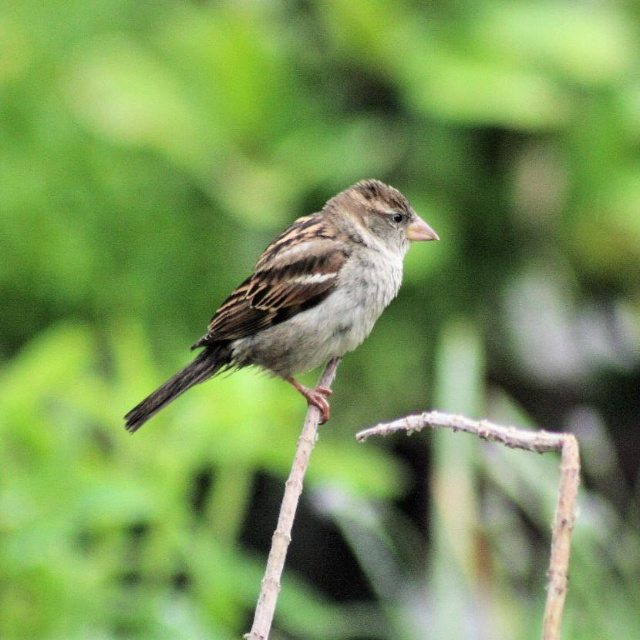Sparrow: (121, 173, 442, 439)
